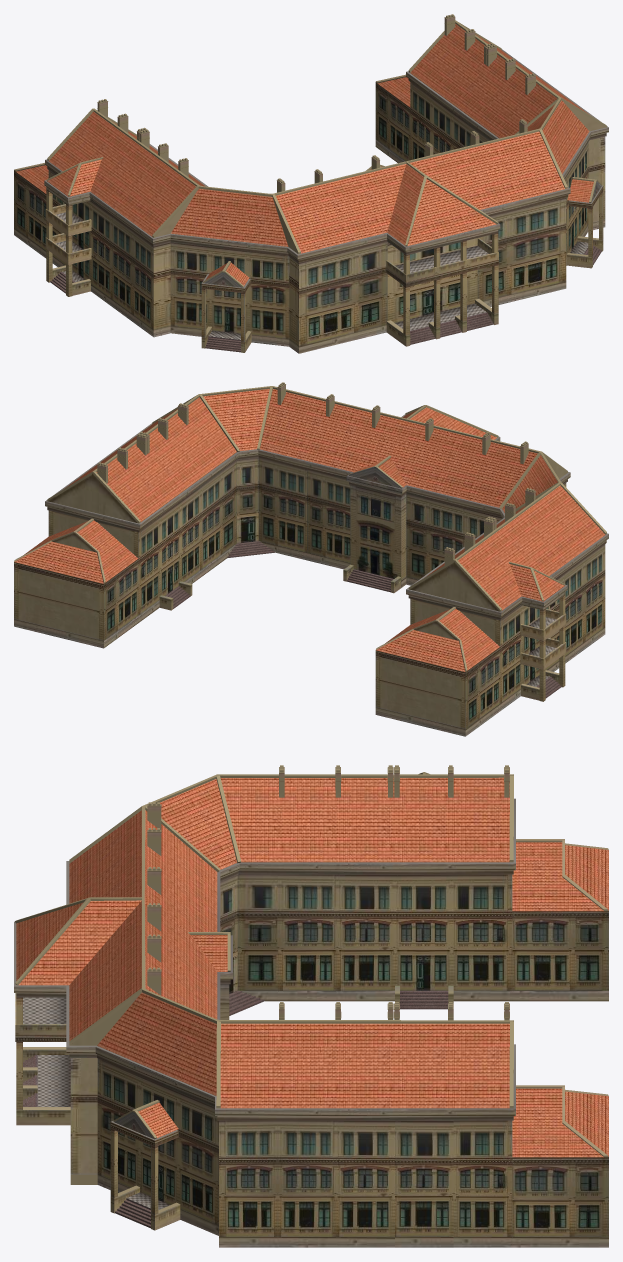
3 renders of one model, top to bottom at view 1: azimuth 30°, elevation 25°; view 2: azimuth 150°, elevation 25°; view 3: azimuth 270°, elevation 25°, orthographic. The views are drawn at different scales.
Visible parts, largest first — view 1: HN576_BoLDTB_XH; view 2: HN576_BoLDTB_XH; view 3: HN576_BoLDTB_XH.
Boxes of the visible parts, <box> form: HN576_BoLDTB_XH: <box>14,14,608,353</box>; HN576_BoLDTB_XH: <box>14,382,608,736</box>; HN576_BoLDTB_XH: <box>14,765,608,1247</box>.
Size of the model in its own units: 72.74 by 21.66 by 56.21.
Materials: 1 (1 with a texture image).
